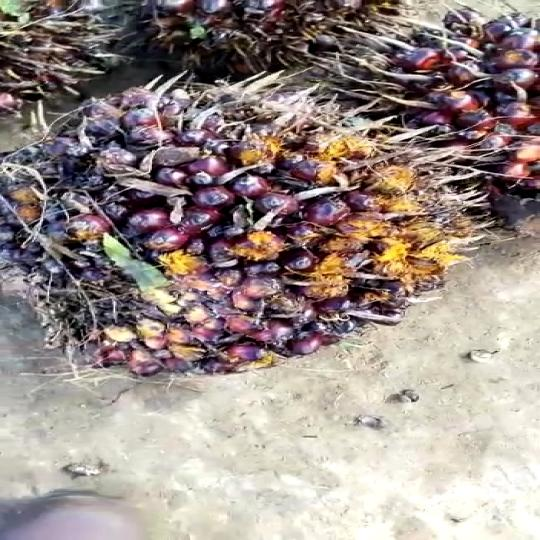masak: (1, 76, 493, 408)
